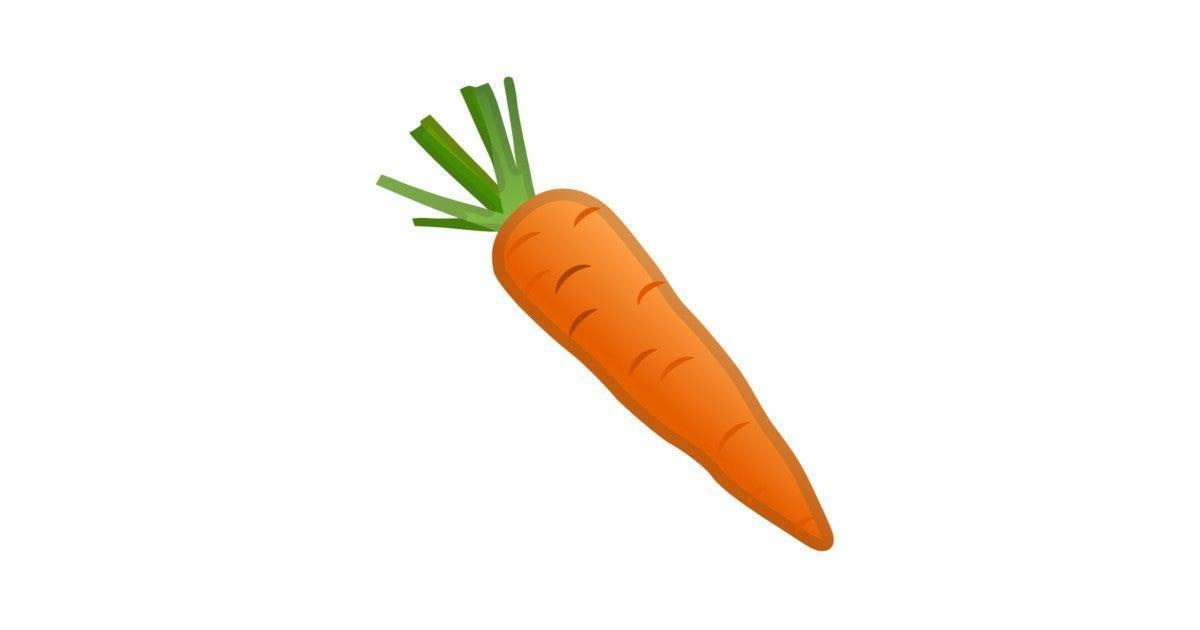carrot: (375, 44, 865, 599)
